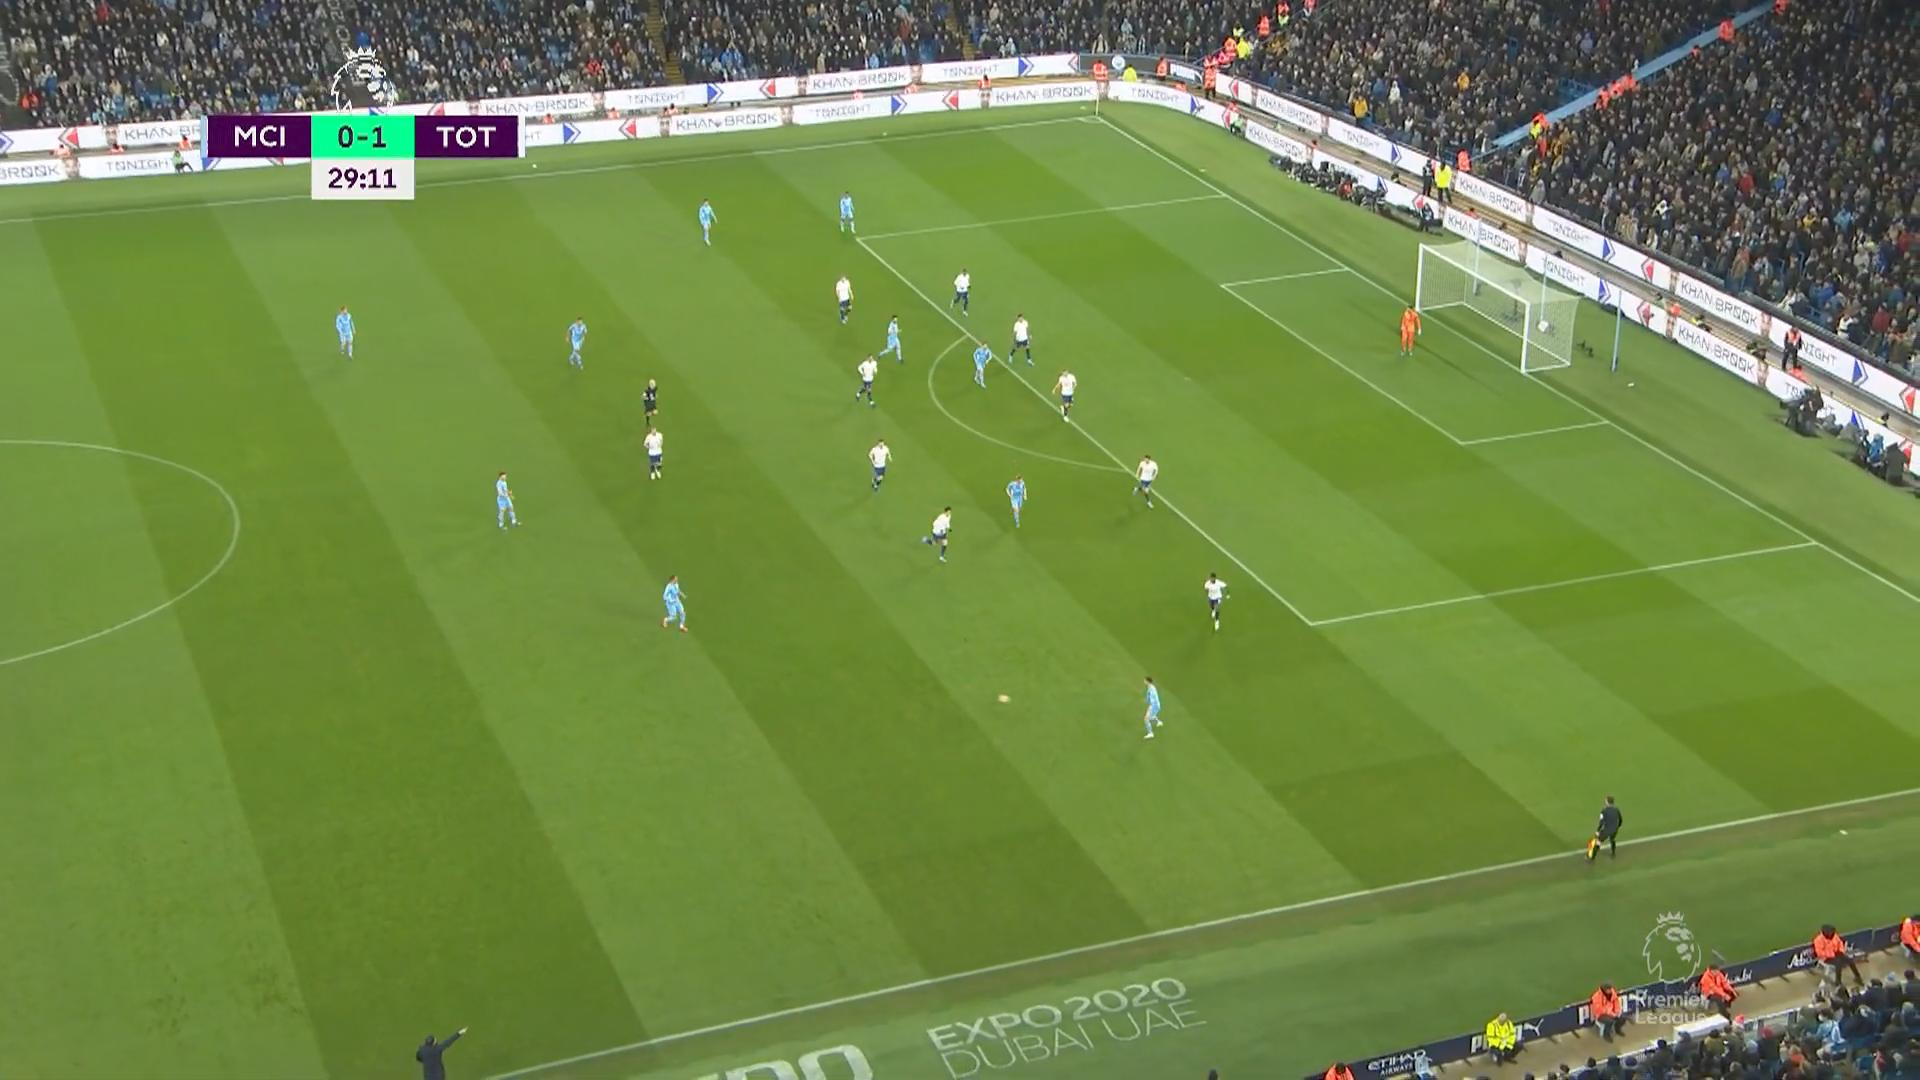ball: (998, 693, 1010, 704)
goalkeeper: (1398, 304, 1420, 357)
player: (659, 574, 689, 632), (1202, 570, 1229, 631), (493, 470, 520, 529), (926, 505, 953, 563), (1131, 452, 1158, 509), (1007, 312, 1034, 367), (876, 314, 904, 363), (1051, 368, 1076, 422), (1141, 675, 1162, 739), (867, 438, 891, 492), (1004, 475, 1027, 528), (854, 353, 877, 406), (642, 425, 664, 480), (333, 304, 355, 359), (566, 316, 587, 369), (949, 267, 971, 315), (971, 340, 992, 388), (697, 198, 717, 246), (834, 274, 853, 324), (837, 189, 855, 234)
referee: (1584, 794, 1622, 861), (640, 376, 659, 425)
